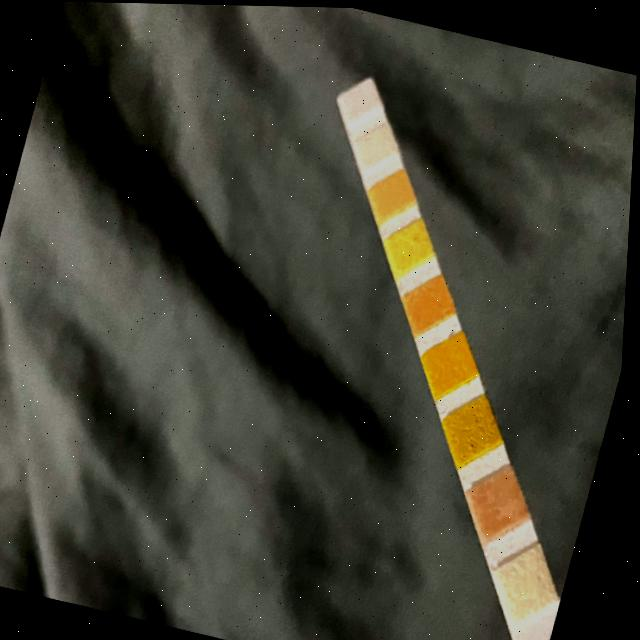Bilirubin: (508, 555, 554, 612)
Blood: (434, 339, 471, 382)
Glucose: (540, 639, 555, 640)
Ketone: (481, 471, 525, 525)
Leukocytes: (345, 85, 371, 116)
Nitrite: (361, 128, 388, 160)
Protein: (393, 226, 426, 263)
SpGravity: (455, 399, 494, 452)
Urobilinogen: (377, 176, 408, 210)
pH: (412, 283, 448, 321)
